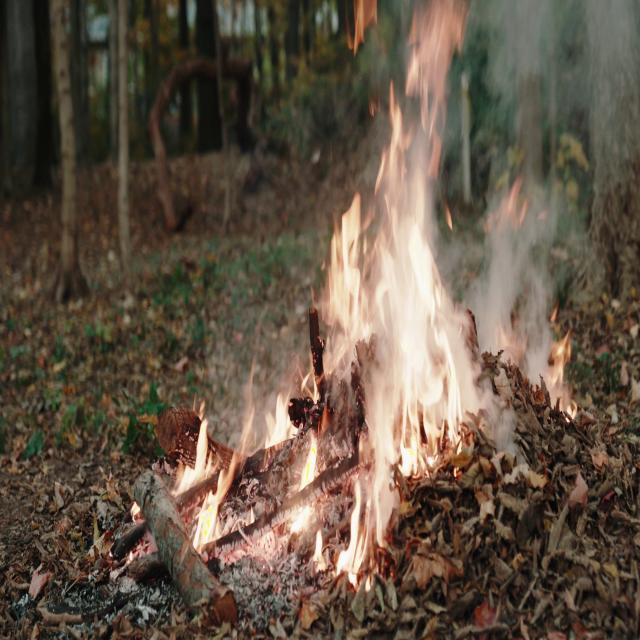Fire: (260, 52, 499, 582), (174, 398, 234, 571), (538, 326, 578, 436)
Smoke: (459, 0, 640, 401)
